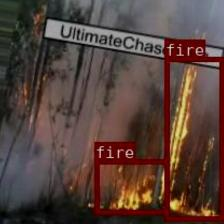fire: (164, 56, 224, 220), (94, 159, 168, 213)
